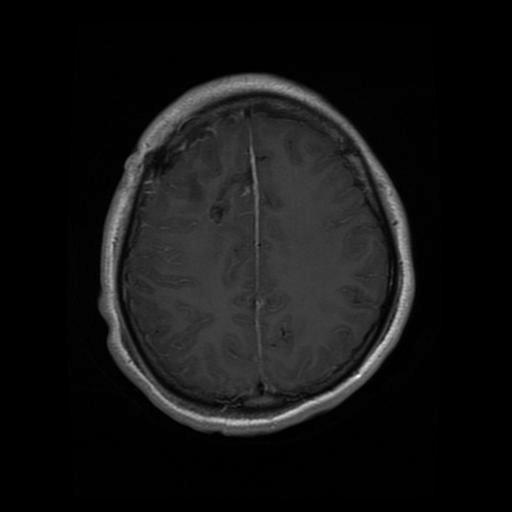Tumour-Glioma: (153, 123, 240, 212)
